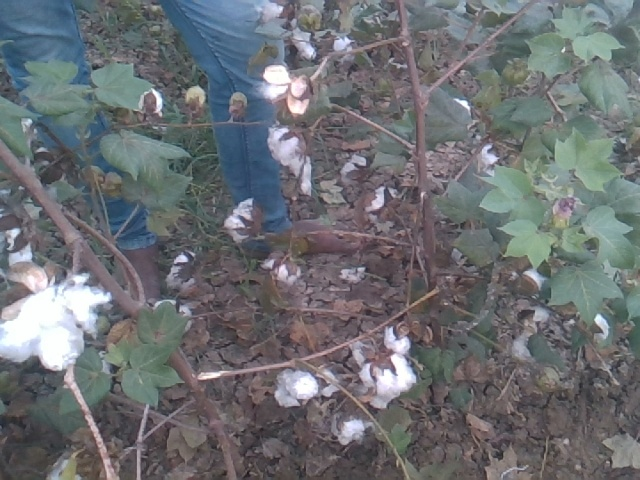cotton: (2, 269, 113, 373), (352, 328, 417, 409), (265, 122, 312, 197), (262, 64, 311, 118), (274, 367, 319, 409), (221, 198, 262, 244), (149, 300, 194, 339), (166, 249, 198, 292), (366, 185, 399, 224), (267, 250, 301, 286), (516, 267, 551, 301), (335, 415, 374, 444), (580, 308, 610, 345), (339, 152, 367, 188), (444, 98, 473, 131), (478, 145, 504, 180)
